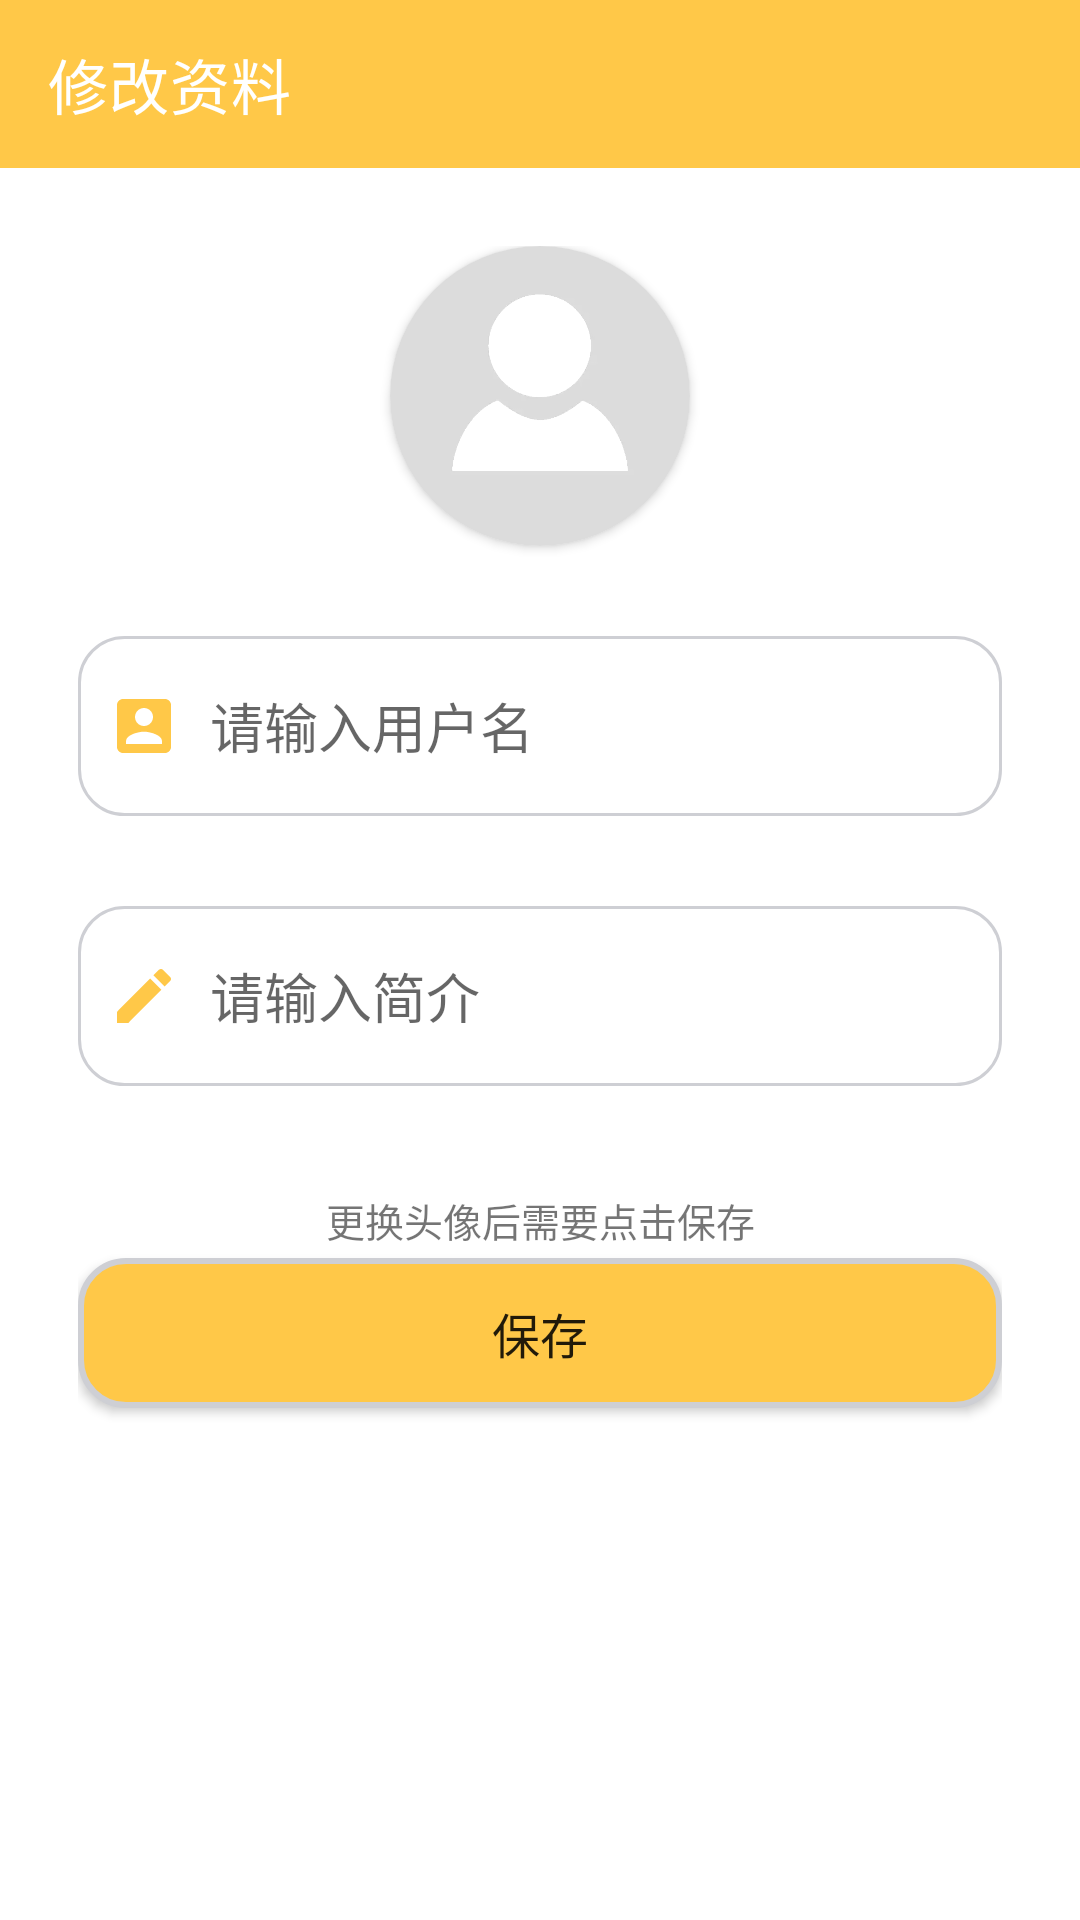

Screen size 1080*1920. Icon name, then its center in pixels as (x,y):
account box: (144,726)
